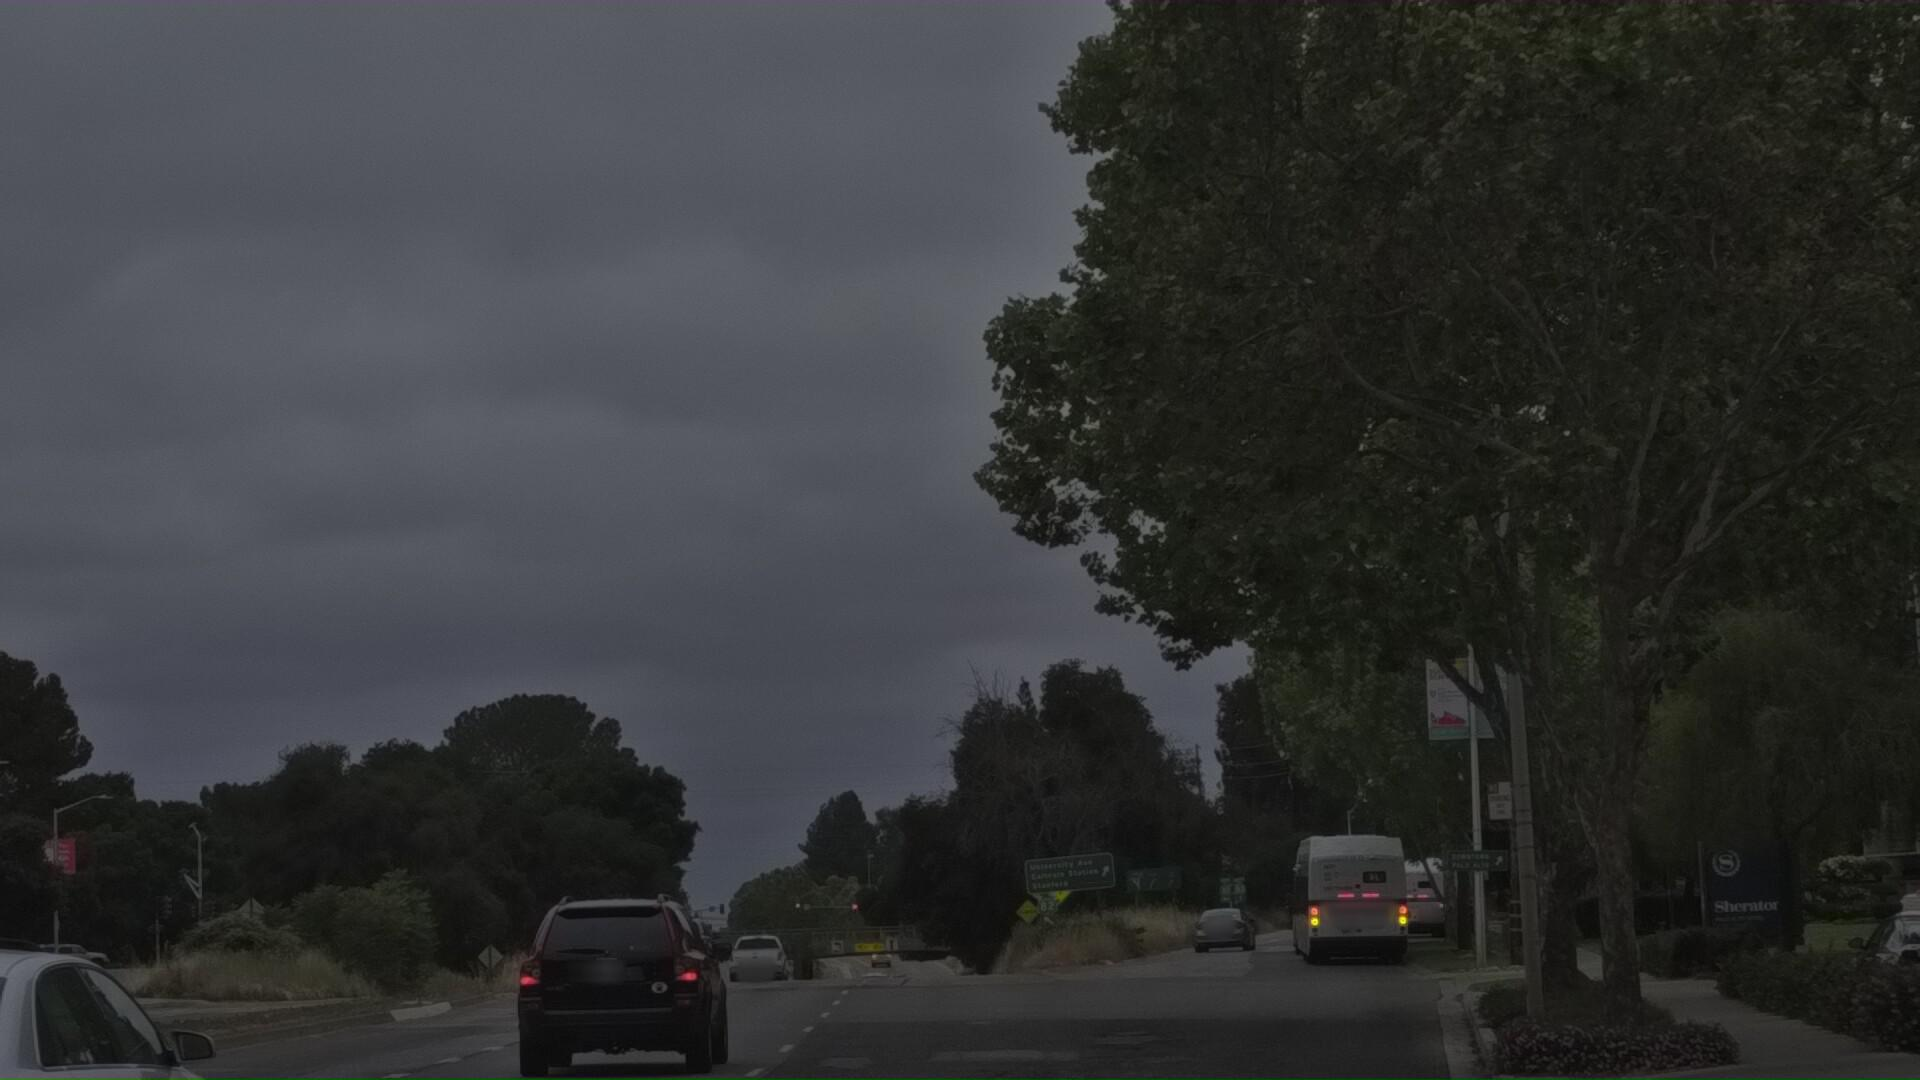car: (0, 804, 326, 1080), (500, 873, 752, 1080), (1849, 916, 1920, 1025), (1905, 919, 1920, 1060), (1917, 752, 1920, 1080)
